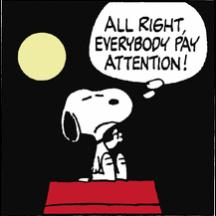snoopy: (61, 87, 135, 183)
